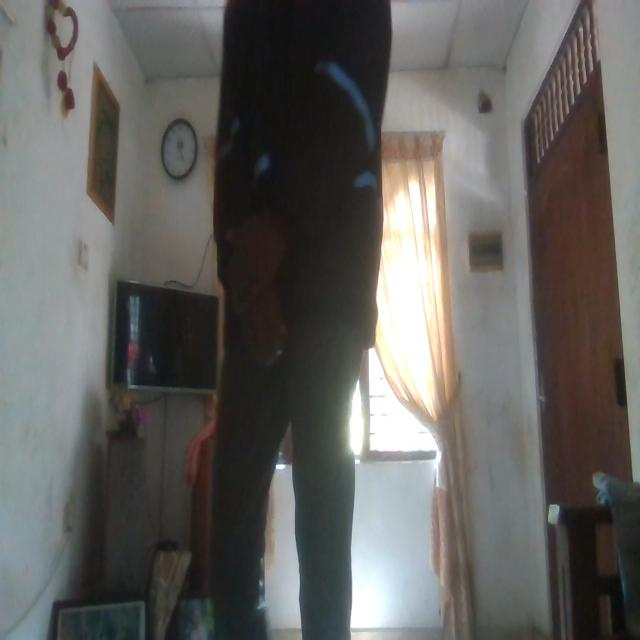Jacket_Wearer: (209, 0, 387, 372)
Person: (219, 0, 390, 636)
